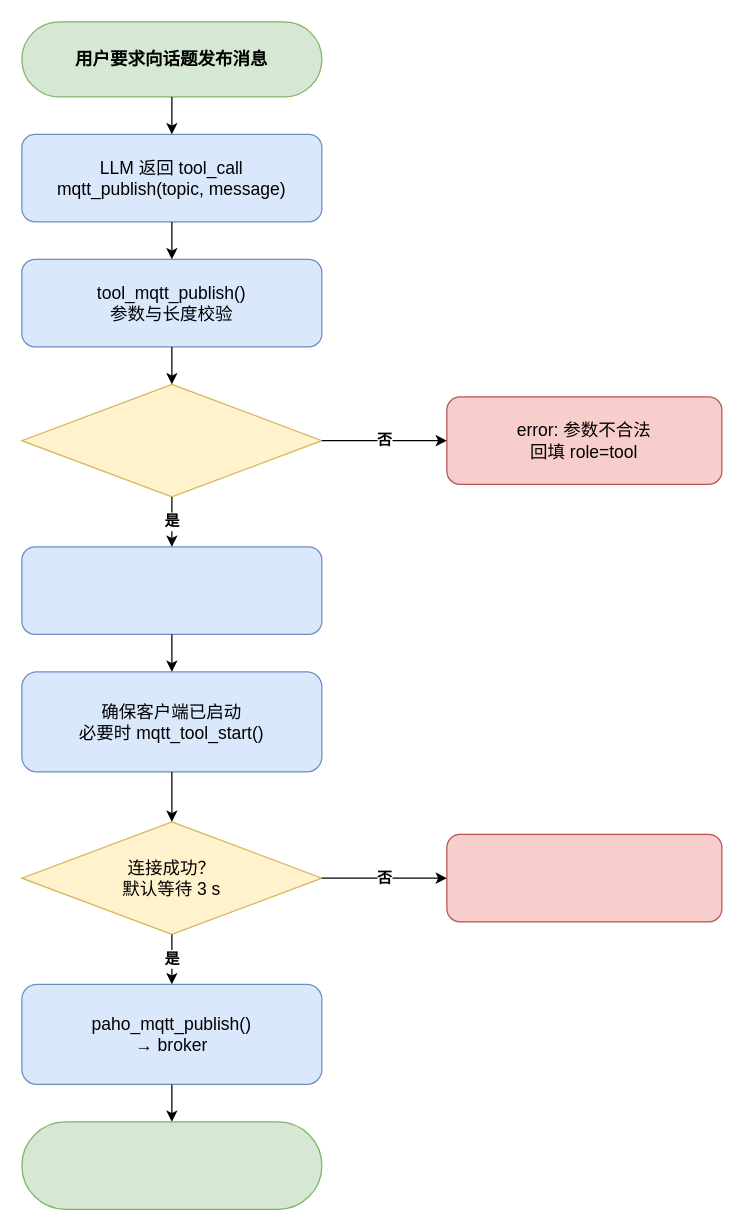
Image size: 744x1231. Some labels were removed from this diagram. The shapes that lost their labels are listed below. From the top down, each one's centre as x and y in pixels, then its label:
[171,440]: 参数合法？
[171,590]: mqtt_do_publish()
[584,877]: error: 连接超时 回填 role=tool
[171,1165]: publish ok 回填 role=tool，LLM 继续
